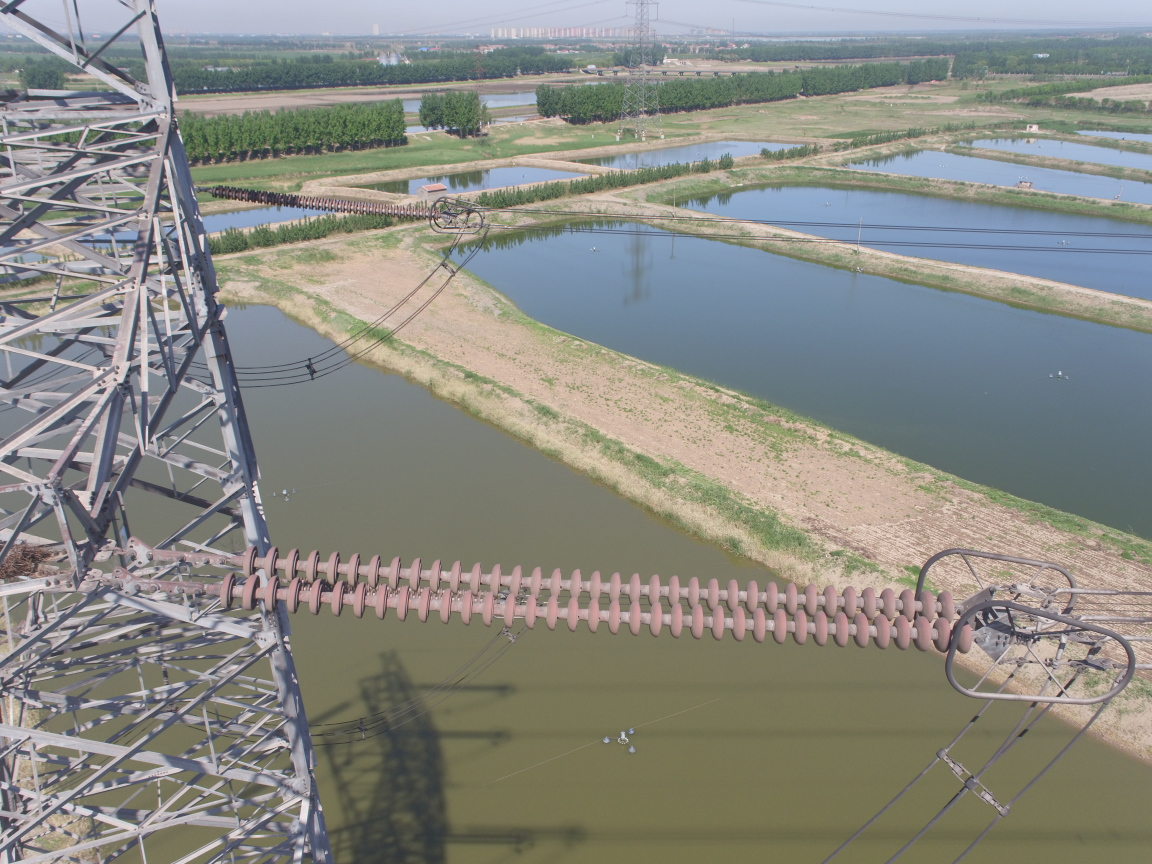insulator: (168, 539, 997, 658), (200, 181, 444, 224)
